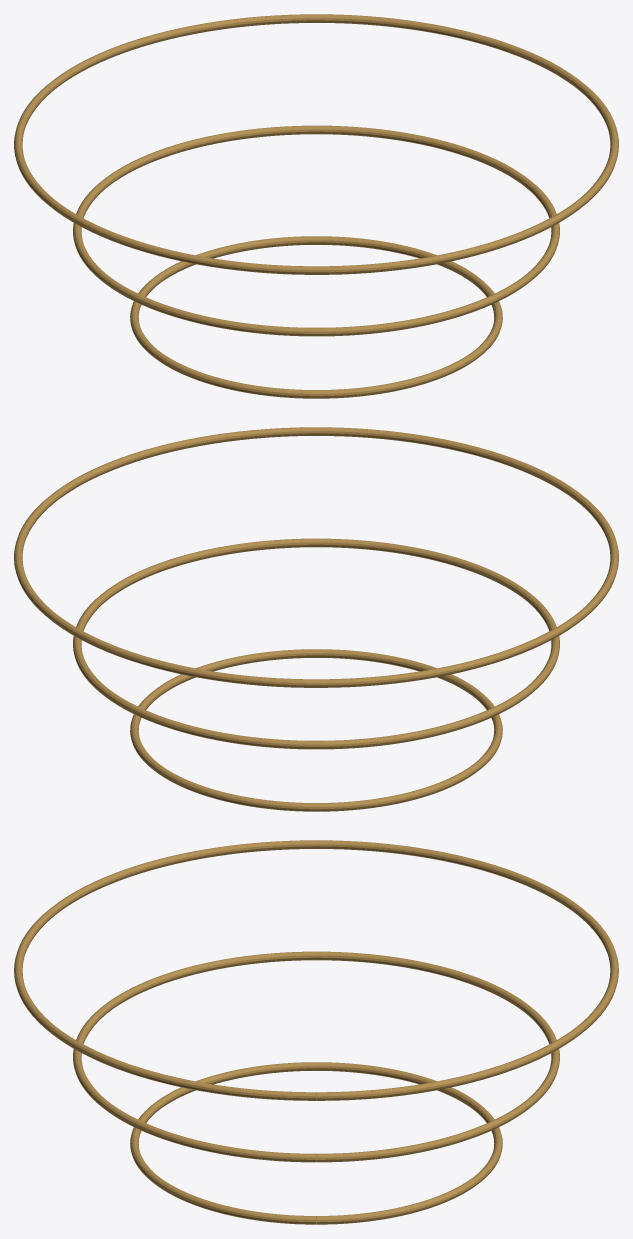
Rendered from tidal-vessel--bronze.glb.
3 views of the same model, one above another, from view 1: azimuth 30°, elevation 25°; view 2: azimuth 150°, elevation 25°; view 3: azimuth 270°, elevation 25° (orthographic).
Visible parts, largest first — view 1: tidal-vessel; view 2: tidal-vessel; view 3: tidal-vessel.
Part boxes in pixels (x1,y1,x2,y2): tidal-vessel: (14, 14, 618, 398); tidal-vessel: (14, 427, 618, 811); tidal-vessel: (14, 840, 618, 1224).
Size of the model in its own units: 2.79 by 0.92 by 2.79.
